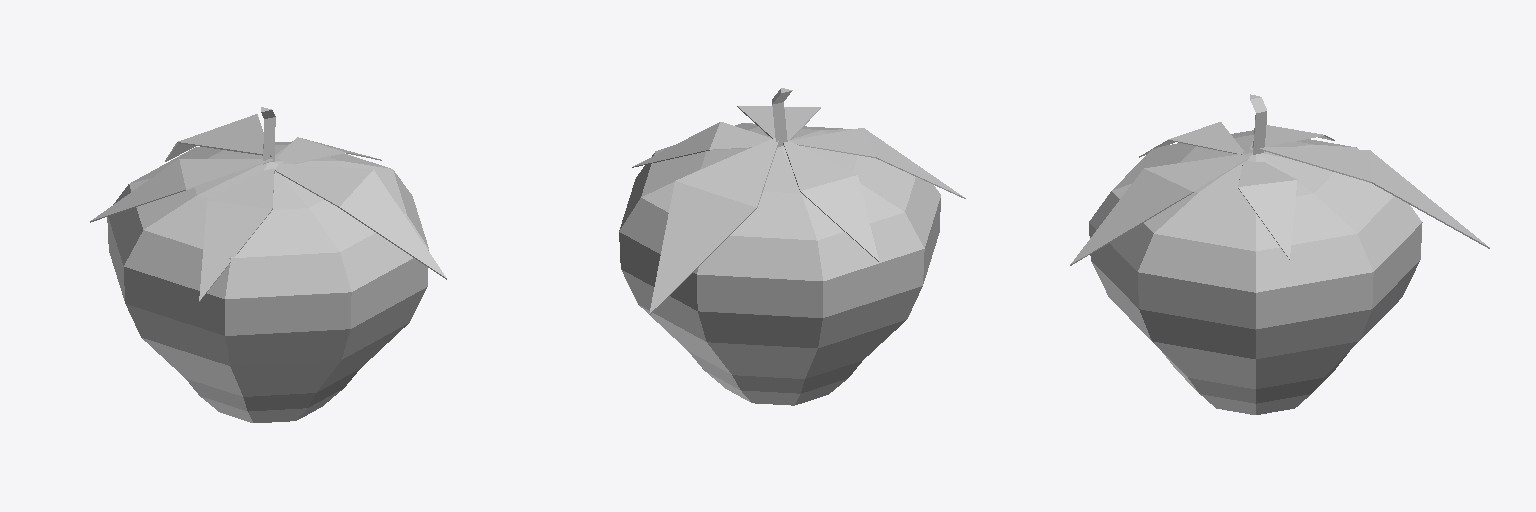
3 renders of one model, left to right at view 1: azimuth 30°, elevation 25°; view 2: azimuth 150°, elevation 25°; view 3: azimuth 270°, elevation 25°, orthographic.
Visible parts, largest first — view 1: Strawberry_Sphere.012; view 2: Strawberry_Sphere.012; view 3: Strawberry_Sphere.012.
Part boxes in pixels (bbox=[...]): Strawberry_Sphere.012: bbox=[90, 107, 446, 422]; Strawberry_Sphere.012: bbox=[619, 88, 965, 405]; Strawberry_Sphere.012: bbox=[1070, 94, 1489, 414].
Bounding box in the file's own units: 1.16 × 1.21 × 1.46.